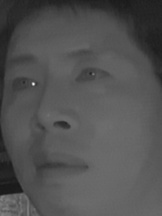eye: (73, 63, 113, 87), (8, 72, 41, 95)
mouth: (31, 149, 90, 185)
